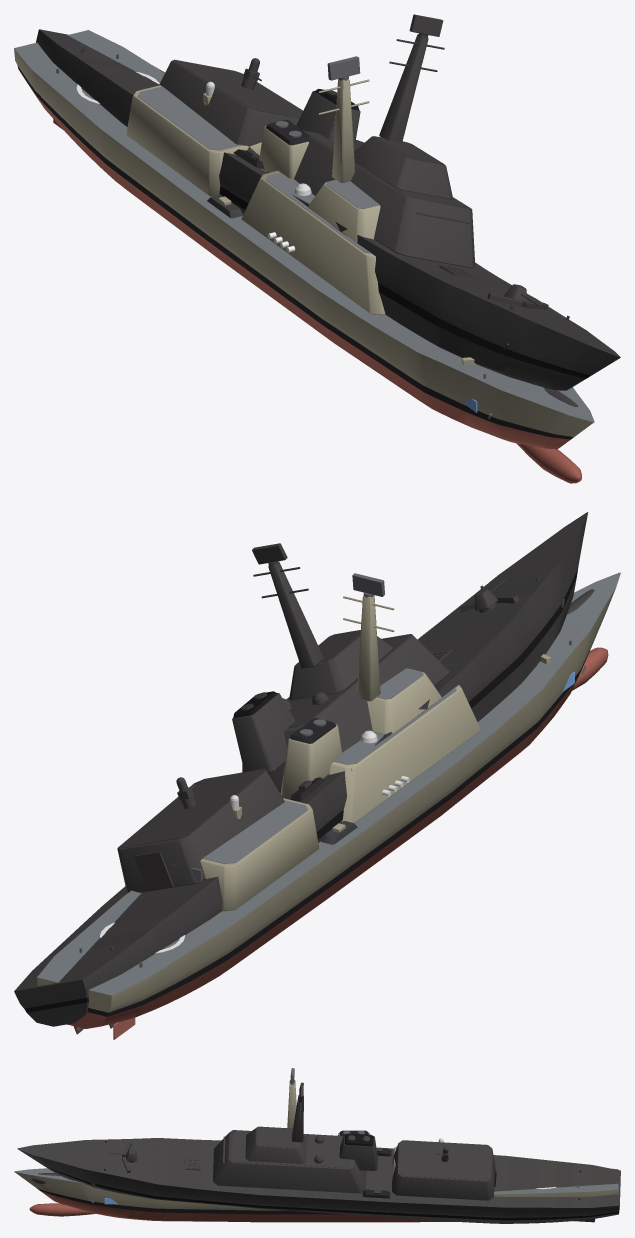
Rendered from asFrigate__istanbul_class.glb.
3 views of the same model, one above another, from view 1: azimuth 30°, elevation 25°; view 2: azimuth 150°, elevation 25°; view 3: azimuth 270°, elevation 25° (orthographic). The views are drawn at different scales.
Visible parts, largest first — view 1: Hull_Mesh, Wreck; view 2: Hull_Mesh, Wreck; view 3: Wreck, Hull_Mesh.
Part boxes in pixels (bbox=[...]): Hull_Mesh: bbox=[14, 30, 594, 483]; Wreck: bbox=[36, 14, 620, 407]; Hull_Mesh: bbox=[37, 572, 620, 1039]; Wreck: bbox=[14, 512, 594, 1034]; Wreck: bbox=[17, 1082, 620, 1223]; Hull_Mesh: bbox=[14, 1082, 618, 1222].
Size of what is drawn, in the model's own units: 20.7 by 33.66 by 118.
